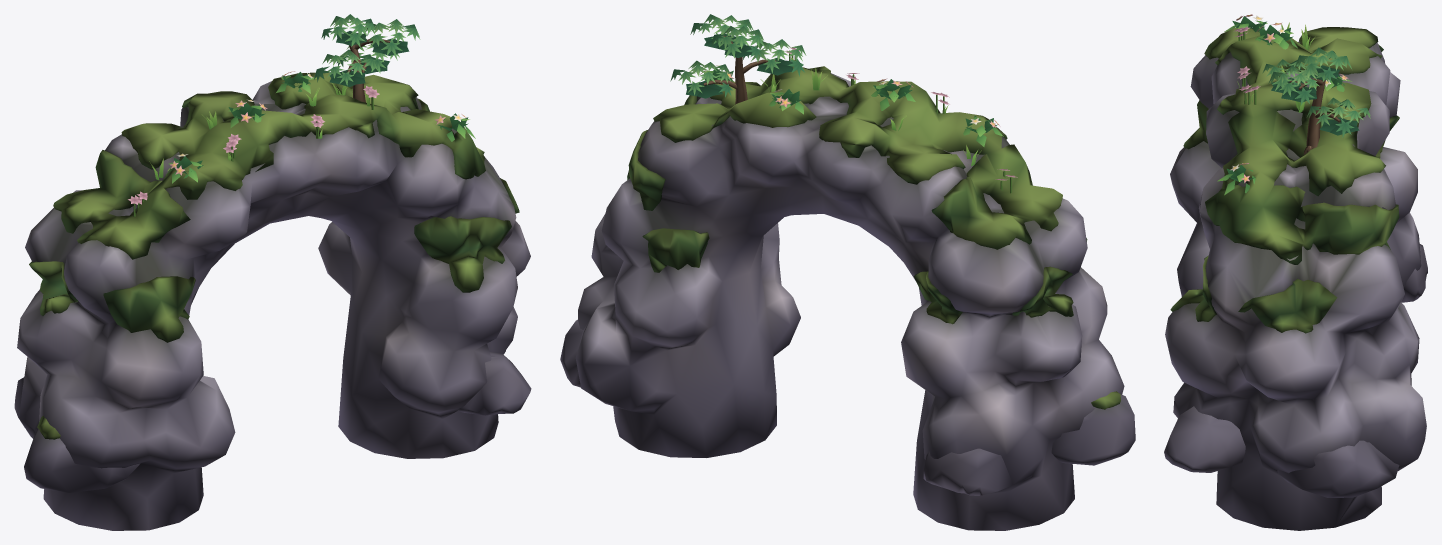
File: poi-seaarch-0.glb
3 views of the same model, side by side, from view 1: azimuth 30°, elevation 25°; view 2: azimuth 150°, elevation 25°; view 3: azimuth 270°, elevation 25° (orthographic).
Parts seen in each view (by area): view 1: body, leaf; view 2: body, leaf; view 3: body, leaf.
Part boxes in pixels (box(x1,y1,x2,y2)): body: box(14, 39, 531, 530); leaf: box(128, 14, 475, 216); body: box(560, 36, 1135, 530); leaf: box(670, 14, 1017, 193); body: box(1164, 27, 1427, 530); leaf: box(1217, 14, 1370, 195).
Size of the model in its own units: 8.78 by 6.66 by 3.82.
